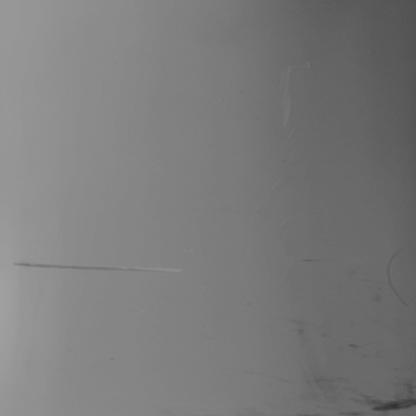sunshang: (11, 256, 187, 272), (386, 247, 413, 309)
